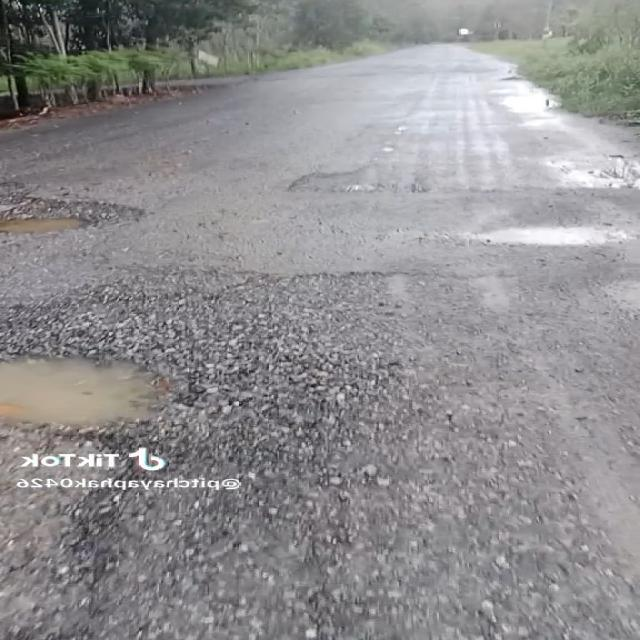Poth-hole: (534, 140, 629, 210)
